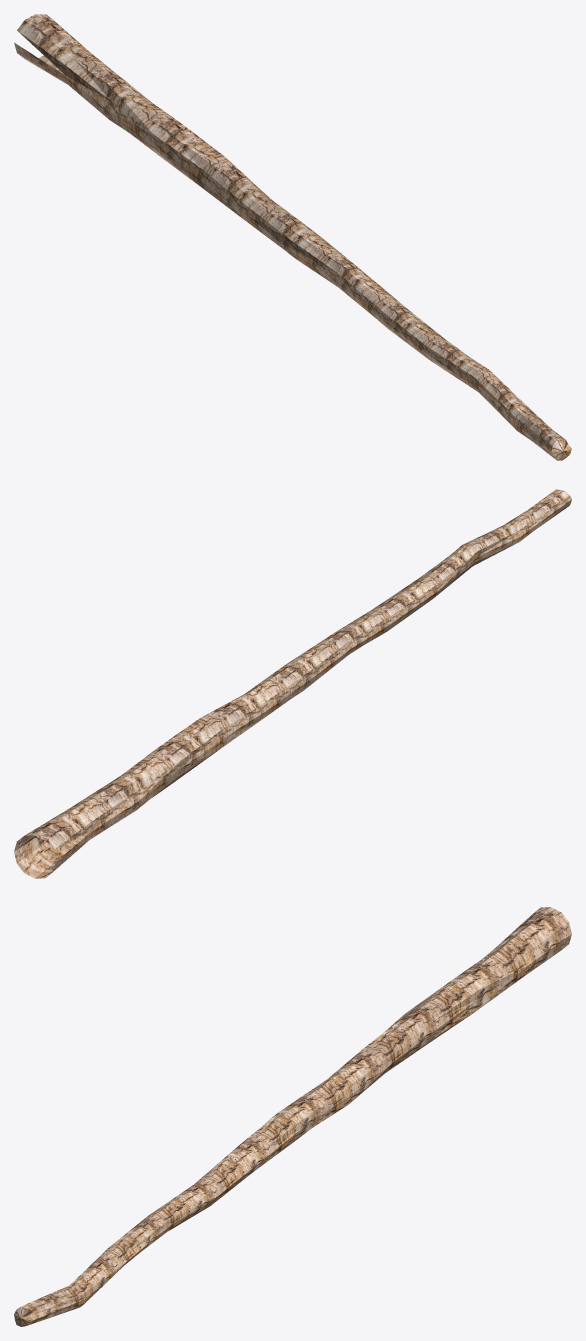
File: palm_trunk_002.obj
The picture shows the model from 3 angles, top to bottom: view 1: azimuth 30°, elevation 25°; view 2: azimuth 150°, elevation 25°; view 3: azimuth 330°, elevation 25°; orthographic projection. The views are drawn at different scales.
Visible parts, largest first — view 1: palm_trunk.002; view 2: palm_trunk.002; view 3: palm_trunk.002.
Boxes of the visible parts, x1=… form: palm_trunk.002: x1=14, y1=14, x2=571, y2=460; palm_trunk.002: x1=14, y1=489, x2=571, y2=878; palm_trunk.002: x1=14, y1=907, x2=571, y2=1326.
Size of the model in its own units: 0.3835 by 0.459 by 8.01.
